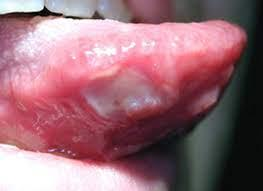Ulcer: (79, 53, 174, 124)
